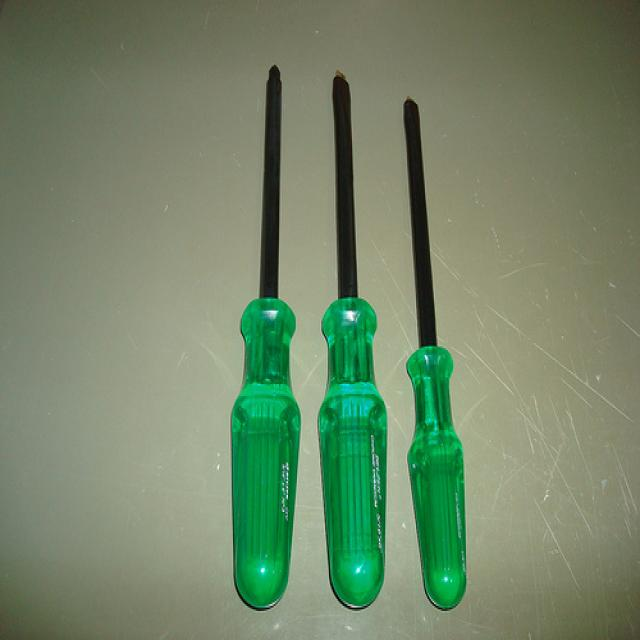screw driver: (389, 68, 518, 640), (220, 47, 314, 590), (314, 50, 401, 583)
